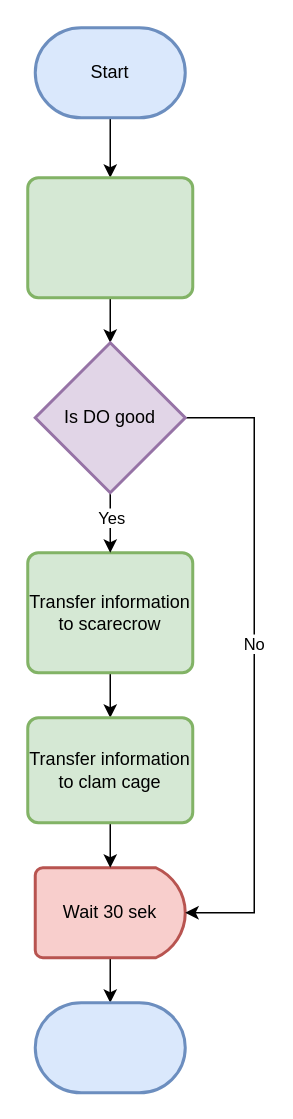
Image size: 293x1119. Some labels were removed from this diagram. The centre of each missing label's shape, as x and y in pixels:
"End" goes at point 109,1047.
"Get measurement from DO sensor" goes at point 110,237.
